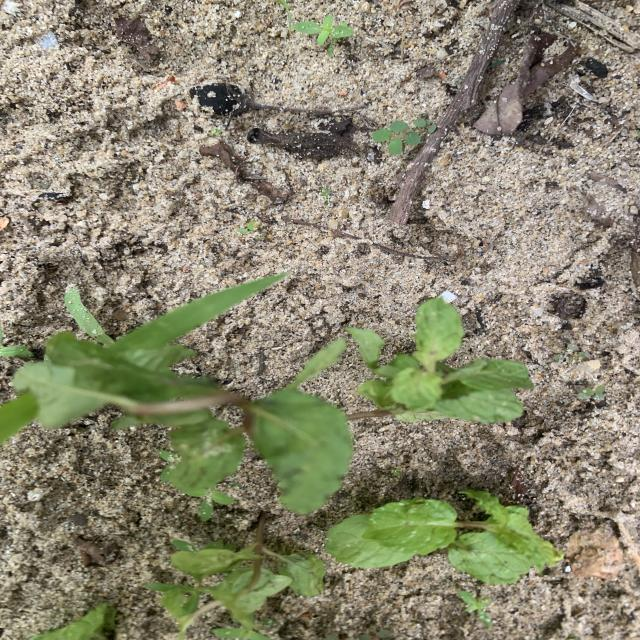crop: (13, 297, 532, 514), (329, 491, 560, 583), (148, 531, 324, 639), (31, 605, 116, 639)
weed: (66, 288, 114, 345), (293, 14, 354, 56), (373, 118, 436, 154), (213, 617, 271, 639), (460, 591, 491, 625), (200, 490, 233, 520), (1, 328, 31, 356), (578, 385, 604, 405), (568, 345, 587, 363), (360, 630, 391, 639), (238, 221, 258, 234), (172, 540, 195, 551), (322, 188, 329, 203)
